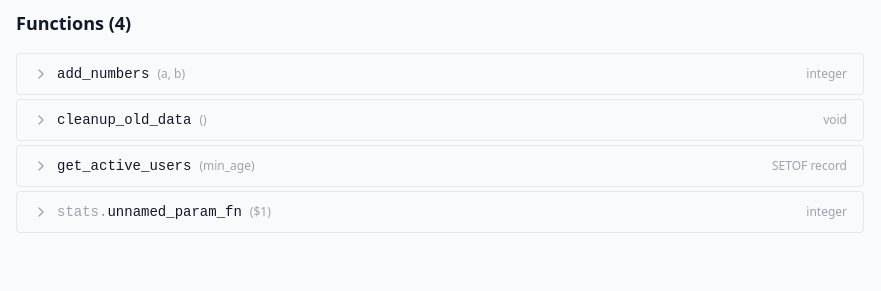
FunctionBrowser › shows warning for unnamed parameters
Click the text "unnamed_param_fn" at [149, 212], box [57,202,242,222]
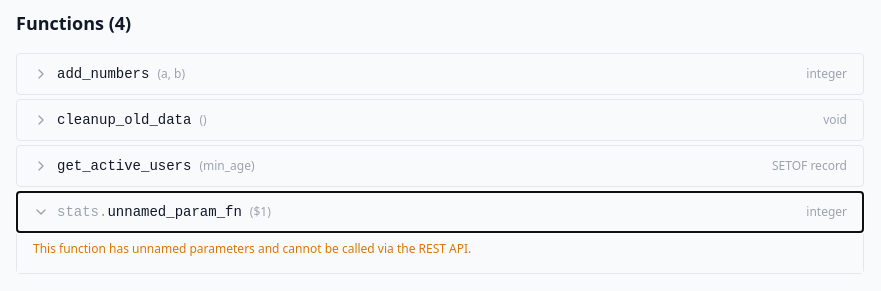
Now the text "unnamed parameters" is shown, box [33,240,471,257]
